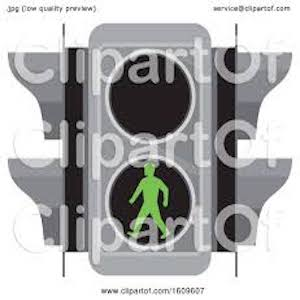green: (124, 162, 185, 245)
